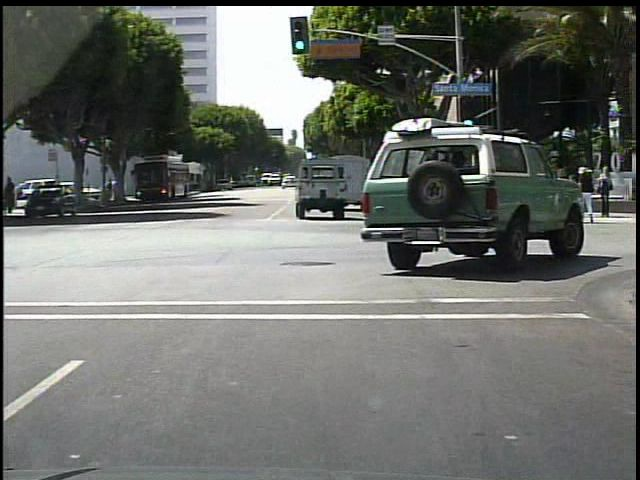person: (578, 165, 595, 223), (597, 167, 615, 218), (515, 159, 531, 214), (475, 169, 492, 217), (506, 167, 521, 216), (505, 164, 520, 213), (465, 165, 477, 216), (569, 173, 577, 221), (116, 176, 125, 204), (105, 177, 114, 200), (546, 159, 554, 178)
